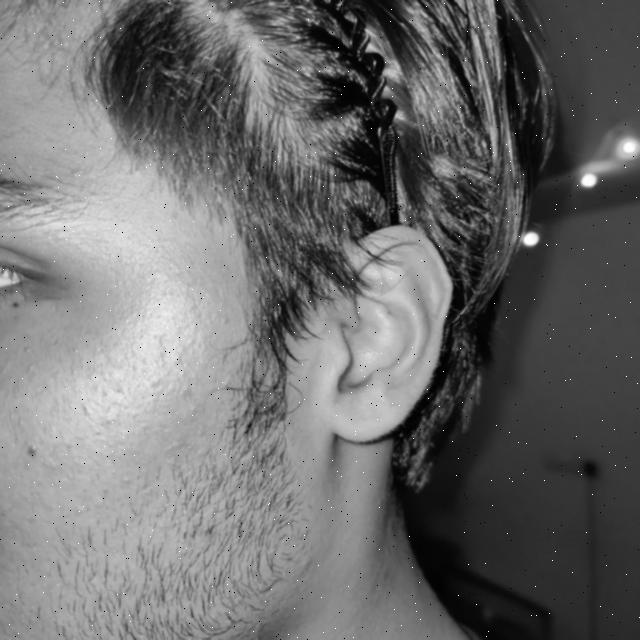ear: (293, 227, 451, 442)
